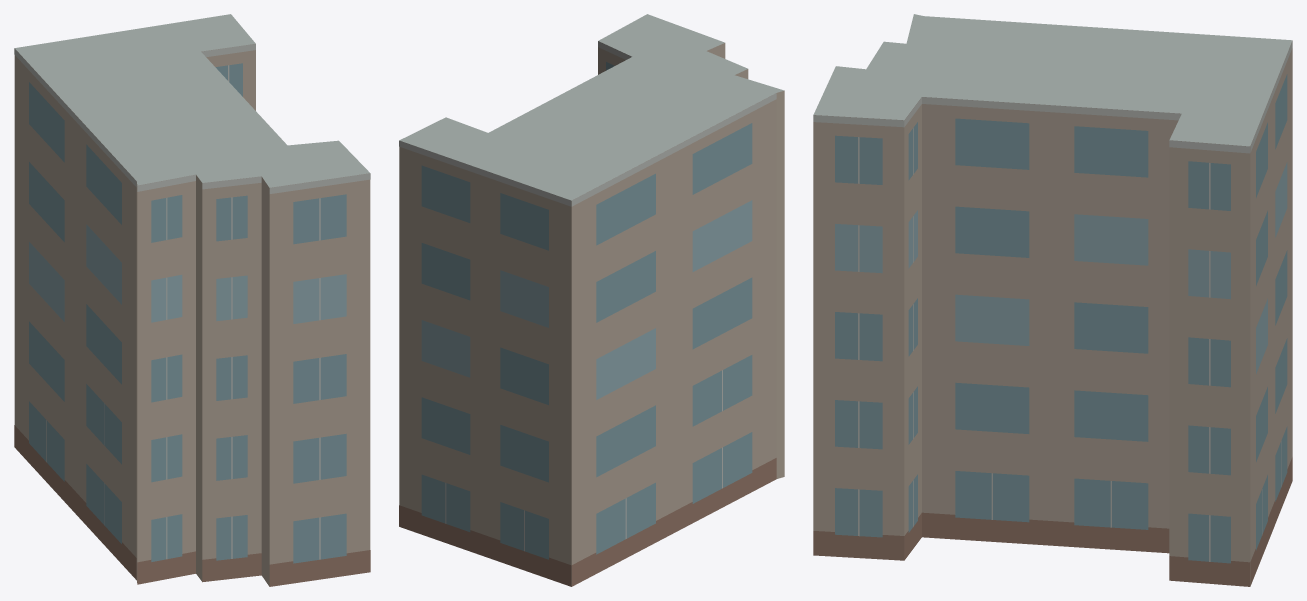
The model's file is survey-upis-32993864.glb.
3 renders of one model, left to right at view 1: azimuth 30°, elevation 25°; view 2: azimuth 150°, elevation 25°; view 3: azimuth 270°, elevation 25°, orthographic. The views are drawn at different scales.
Visible parts, largest first — view 1: survey-upis-32993864.tmp; view 2: survey-upis-32993864.tmp; view 3: survey-upis-32993864.tmp.
Part boxes in pixels (<box>): survey-upis-32993864.tmp: <box>14,14,370,586</box>; survey-upis-32993864.tmp: <box>399,14,784,586</box>; survey-upis-32993864.tmp: <box>813,14,1292,586</box>.
Size of the model in its own units: 9.81 by 15.2 by 15.
